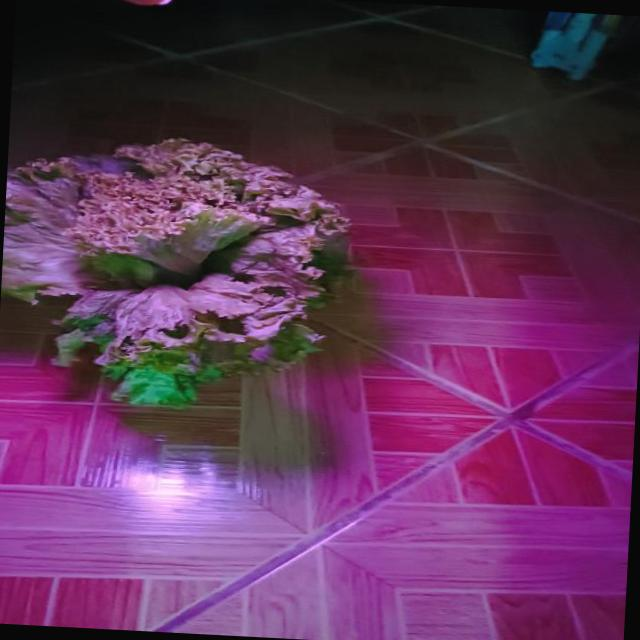Lettuce-Ready-to-Harvest: (1, 138, 349, 406)
